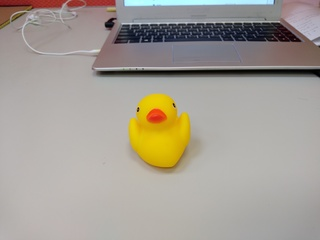duck: (120, 93, 200, 178)
